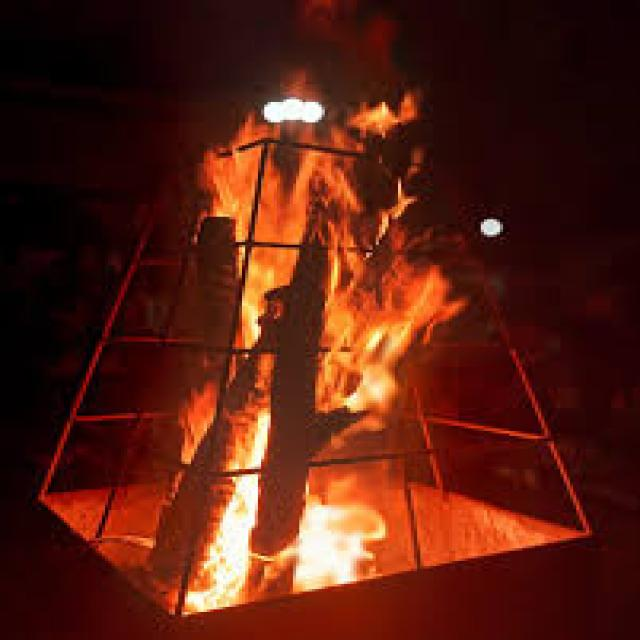fire: (168, 65, 468, 618)
